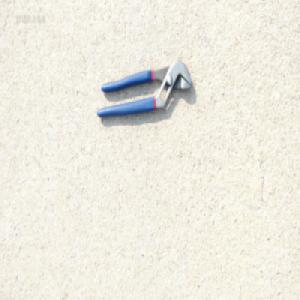Pliers: (96, 61, 193, 121)
